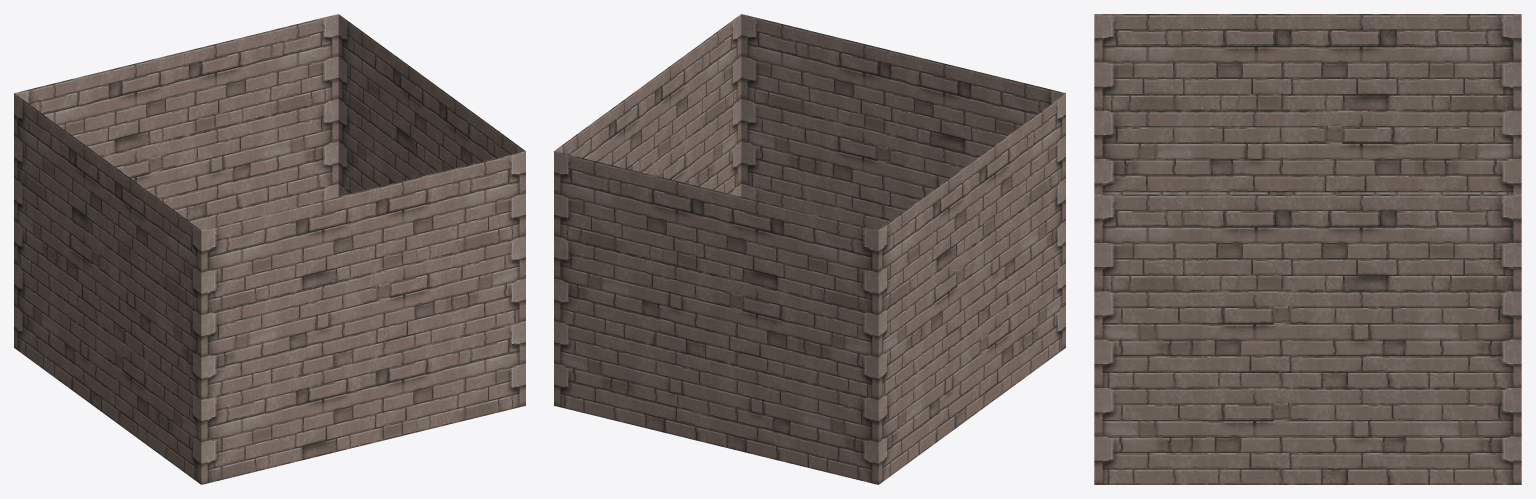
The model's file is shell_stone.glb.
3 renders of one model, left to right at view 1: azimuth 30°, elevation 25°; view 2: azimuth 150°, elevation 25°; view 3: azimuth 270°, elevation 25°, orthographic. The views are drawn at different scales.
Parts seen in each view (by area): view 1: stone_square; view 2: stone_square; view 3: stone_square.
Part boxes in pixels (x1=…): stone_square: x1=14, y1=14, x2=525, y2=484; stone_square: x1=554, y1=14, x2=1065, y2=484; stone_square: x1=1094, y1=14, x2=1521, y2=484.
Bounding box in the file's own units: 4 × 3 × 4.
Materials: 1 (1 with a texture image).
